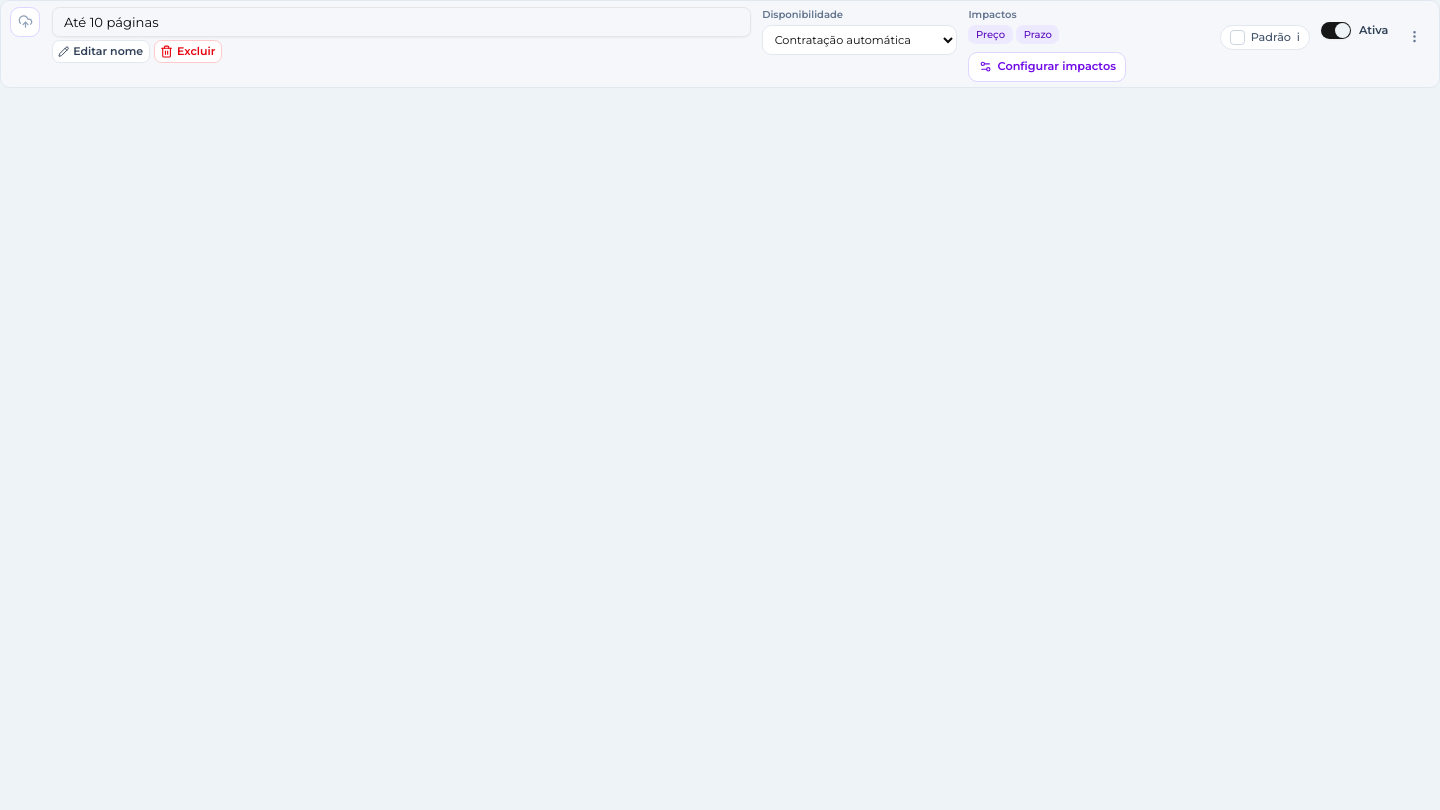
it: impactos da opção — preço e prazo editáveis a partir do resumo › preço pelo atalho: grava UMA vez pela rota da opção e, reaberto com o retorno do servidor, mostra o impacto em português
Earlier steps of the test are not shown.
Later steps or results of the test are not shown.
Click the button with test id "option-detail-toggle": (1047, 67) [968,52,1126,82]
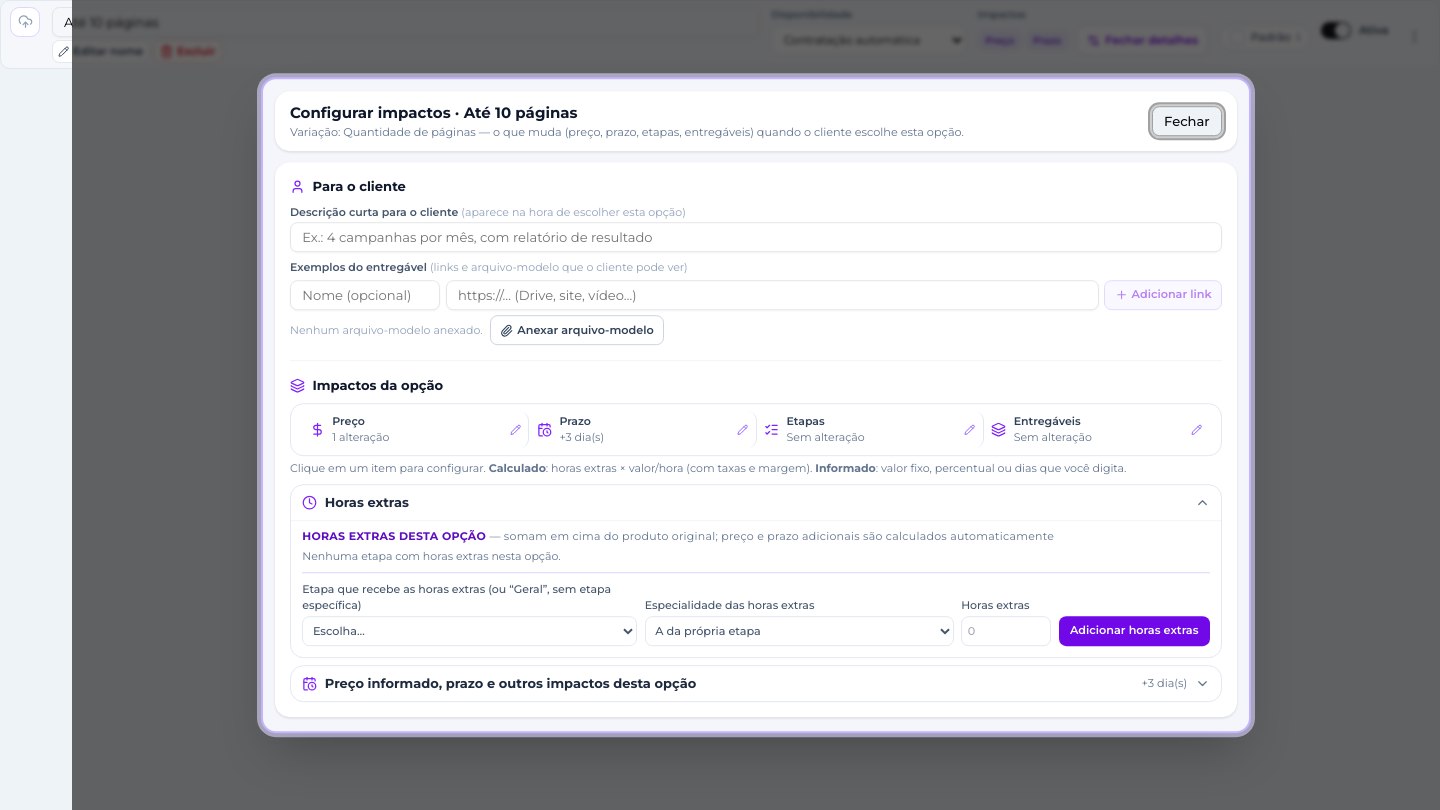
Check: the button with test id "impact-pick-price" does not show "Sem alteração", box [302,411,529,448]
Check: the button with test id "impact-pick-price" shows "1 alteração", box [302,411,529,448]
